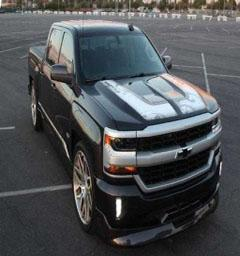car: (13, 12, 232, 252)
